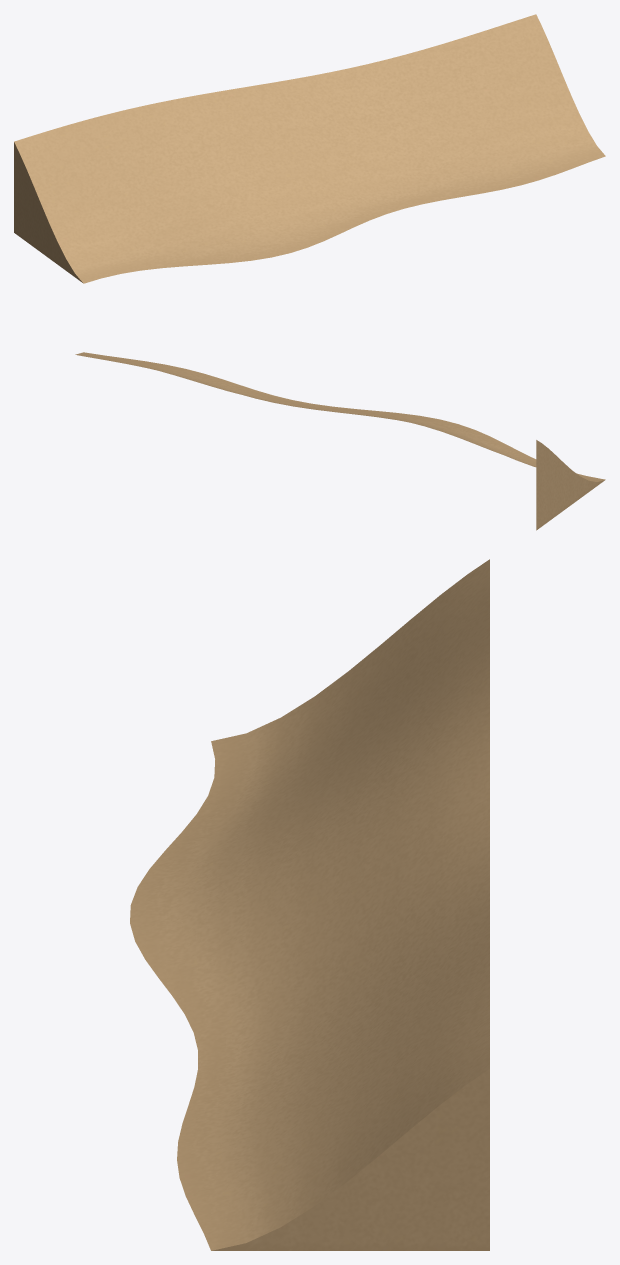
The model's file is sand_drift.glb.
3 renders of one model, top to bottom at view 1: azimuth 30°, elevation 25°; view 2: azimuth 150°, elevation 25°; view 3: azimuth 270°, elevation 25°, orthographic. The views are drawn at different scales.
Parts seen in each view (by area): view 1: sand_drift; view 2: sand_drift; view 3: sand_drift.
Boxes of the visible parts, x1,y1,x2,y2 form: sand_drift: (14,14,605,283); sand_drift: (75,352,605,530); sand_drift: (130,559,489,1250).
Size of the model in its own units: 2 by 0.3499 by 0.5972.
1 material, 1 textured.
